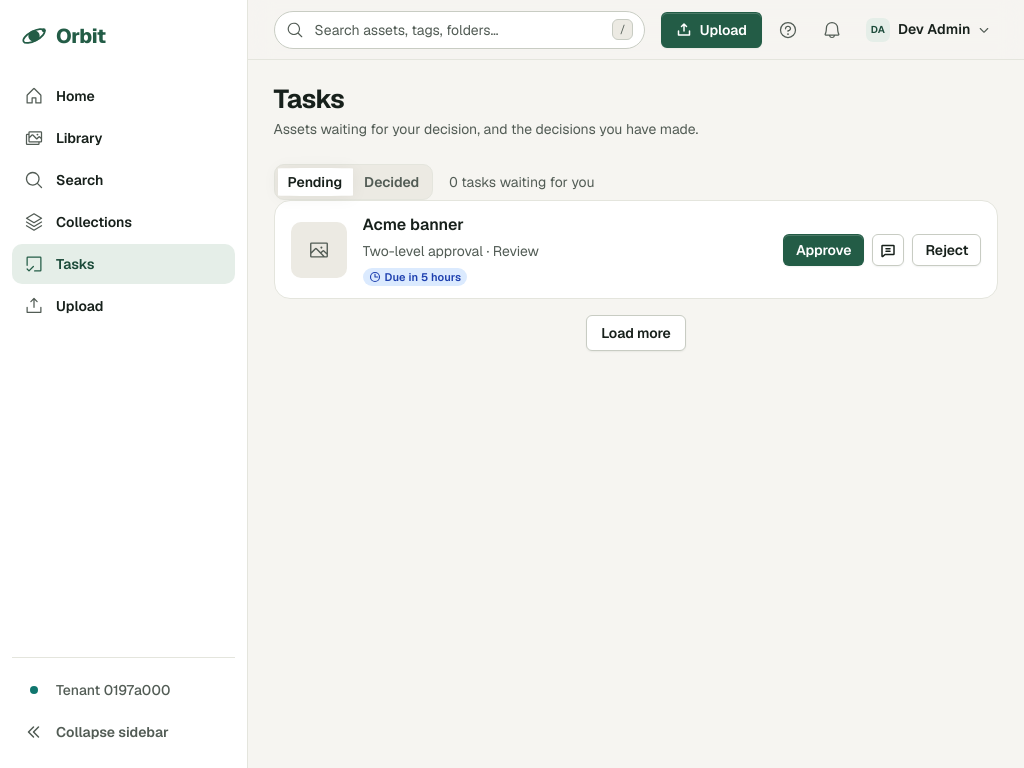
Test: Tasks inbox - pending › pages: Load more appends the next page using the cursor
This screenshot has width=1024, height=768.
Expected: the link "Acme banner" is shown, [363,214,464,235]
Click the button "Load more": point(636, 333) [586,315,686,351]
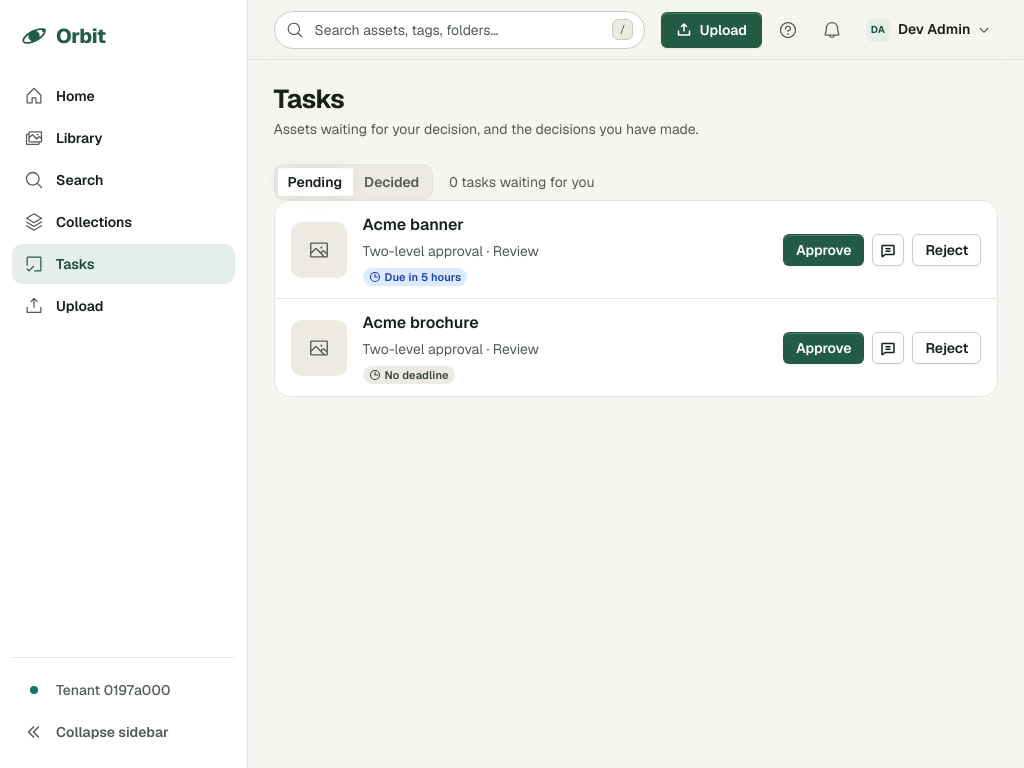
Result: the link "Acme brochure" is shown at [363,312,479,333]
Result: the button "Load more" is gone
